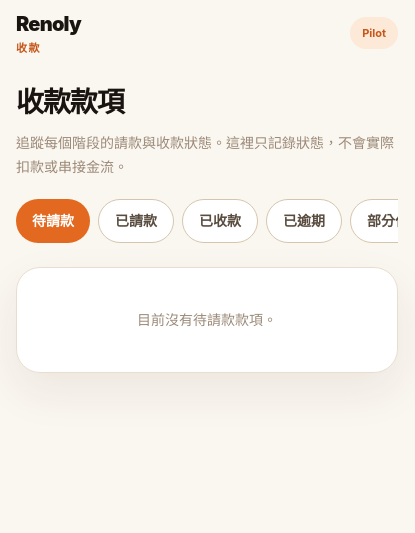
it: PaymentsView › surfaces days overdue on an overdue milestone (not auto bad-debt)
Click the tab "已逾期" at (304, 220), box [266,198,342,242]
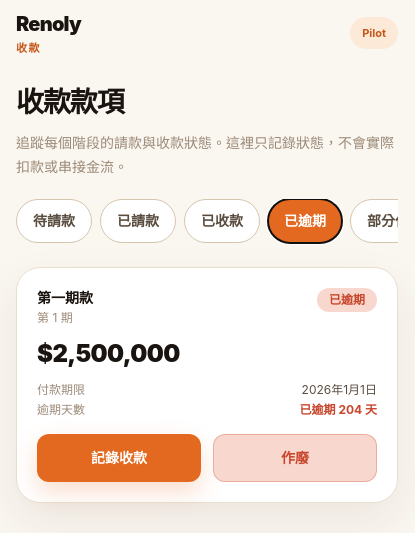
Expected: the text "已逾期 204 天" is shown, [300,402,377,418]
